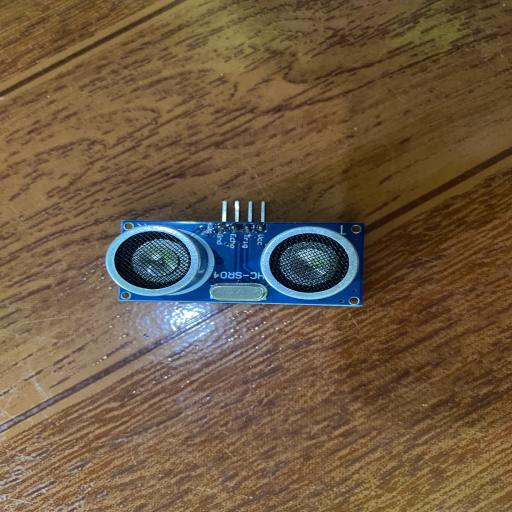Ultrasonic Sensor: (102, 200, 366, 308)
